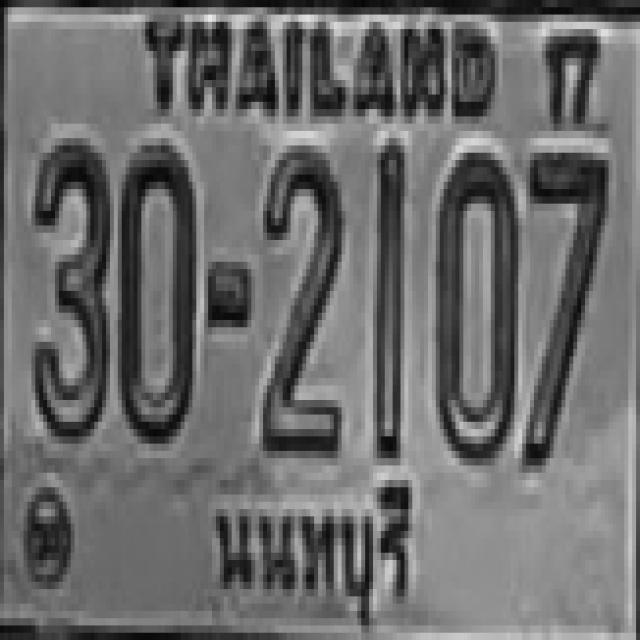0: (434, 146, 516, 458), (118, 142, 192, 440)
1: (371, 146, 402, 458)
2: (261, 145, 340, 451)
3: (29, 138, 108, 436)
7: (520, 146, 607, 466)
Nonthaburi: (196, 458, 420, 640)
